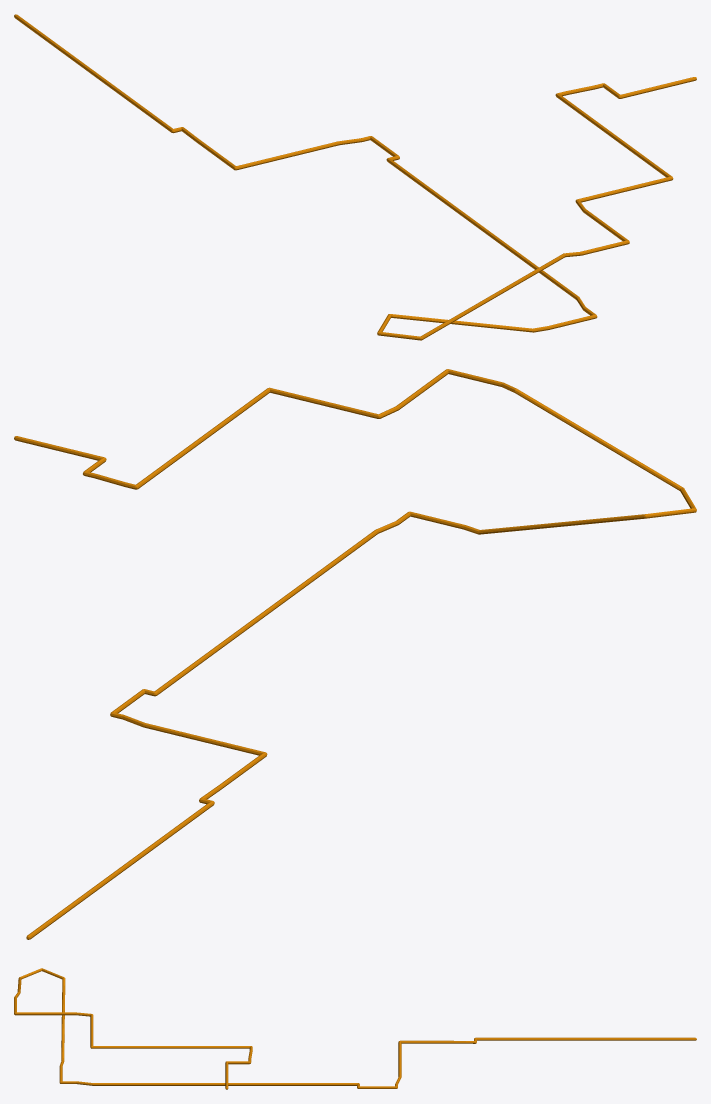
3 renders of one model, top to bottom at view 1: azimuth 30°, elevation 25°; view 2: azimuth 150°, elevation 25°; view 3: azimuth 270°, elevation 25°, orthographic. The views are drawn at different scales.
Size of the model in its own units: 2409 by 520 by 4501.
